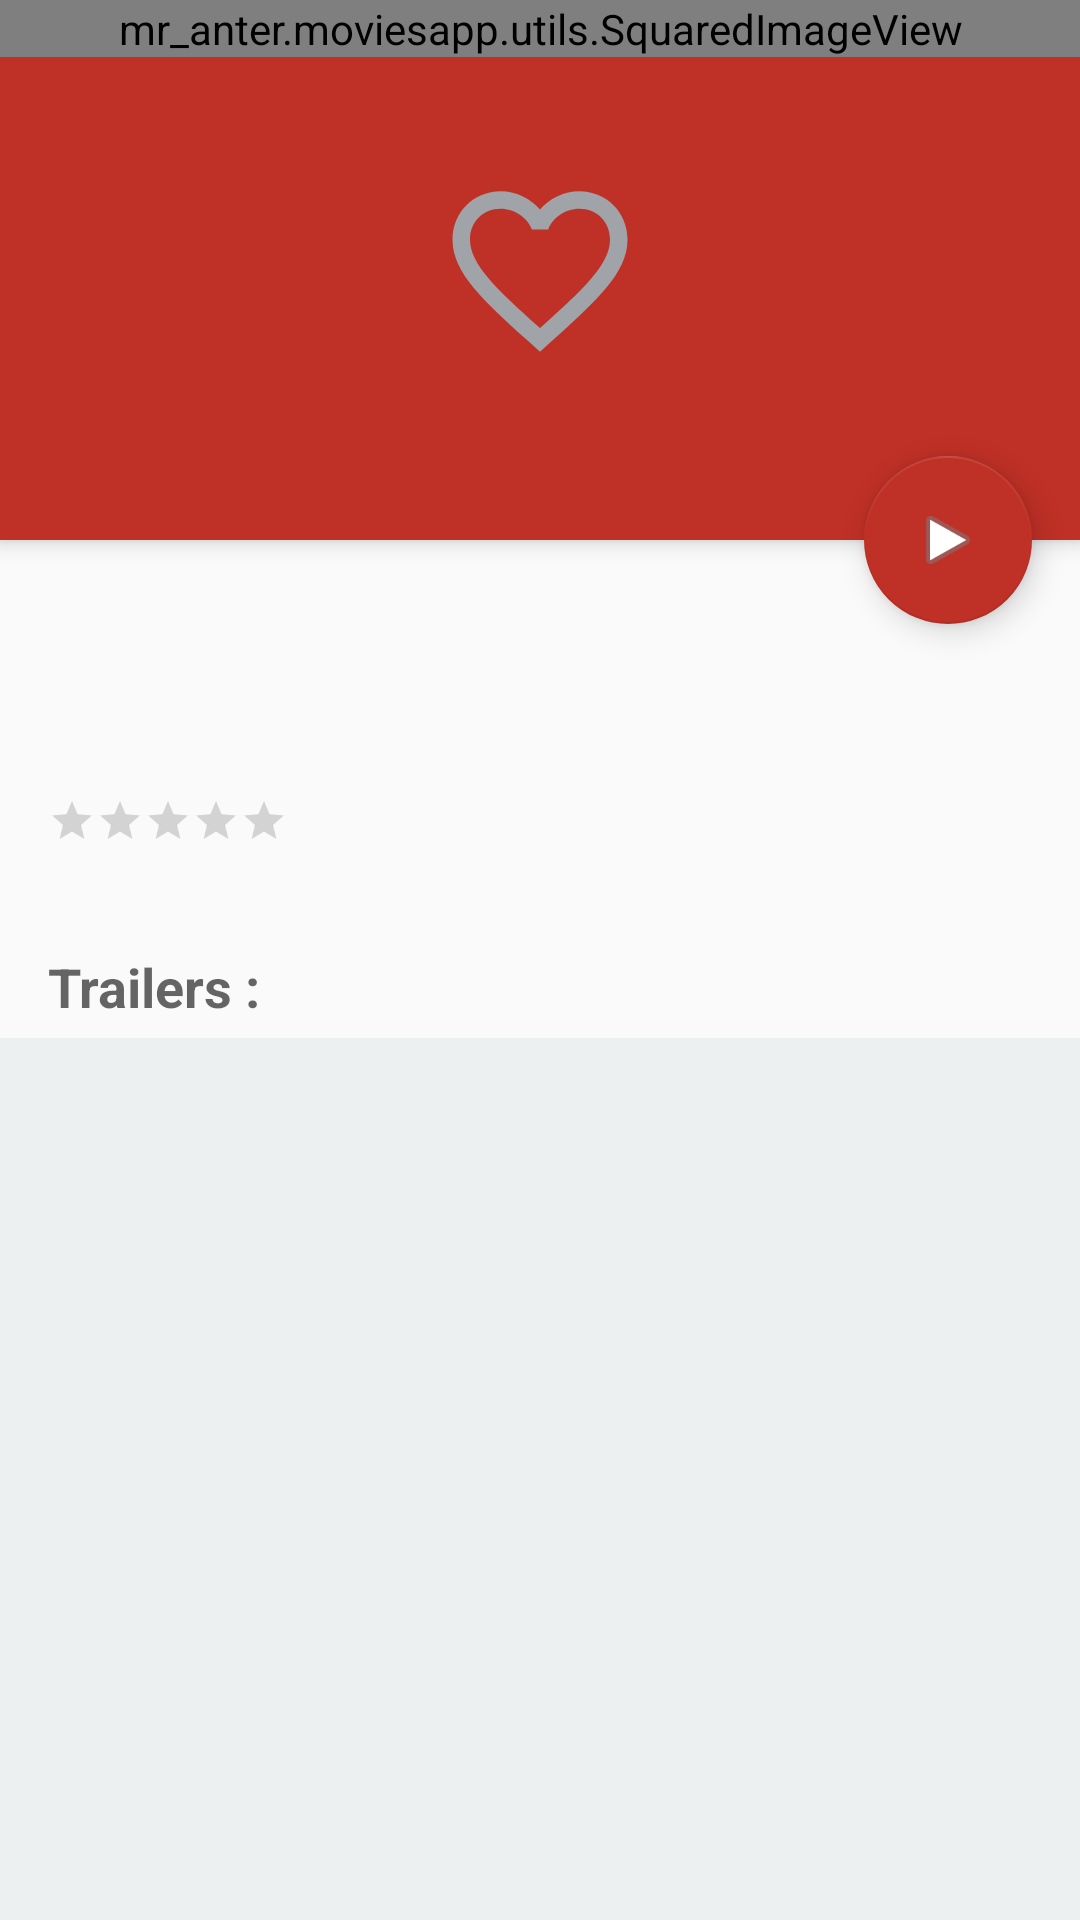

Icon click points for this 1080×1920 phone screenshot, format (x,y):
favorite: (540,271)
play: (948,540)
